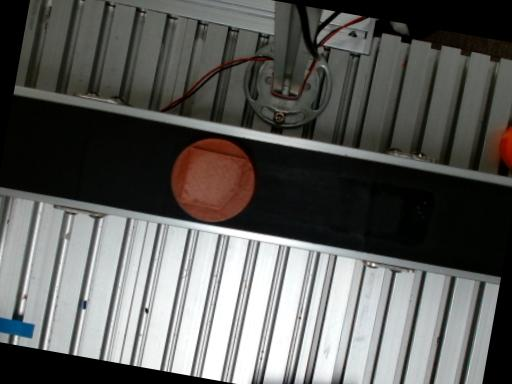Brown_Waper: (171, 138, 255, 221)
Not_Square: (179, 146, 246, 210)
